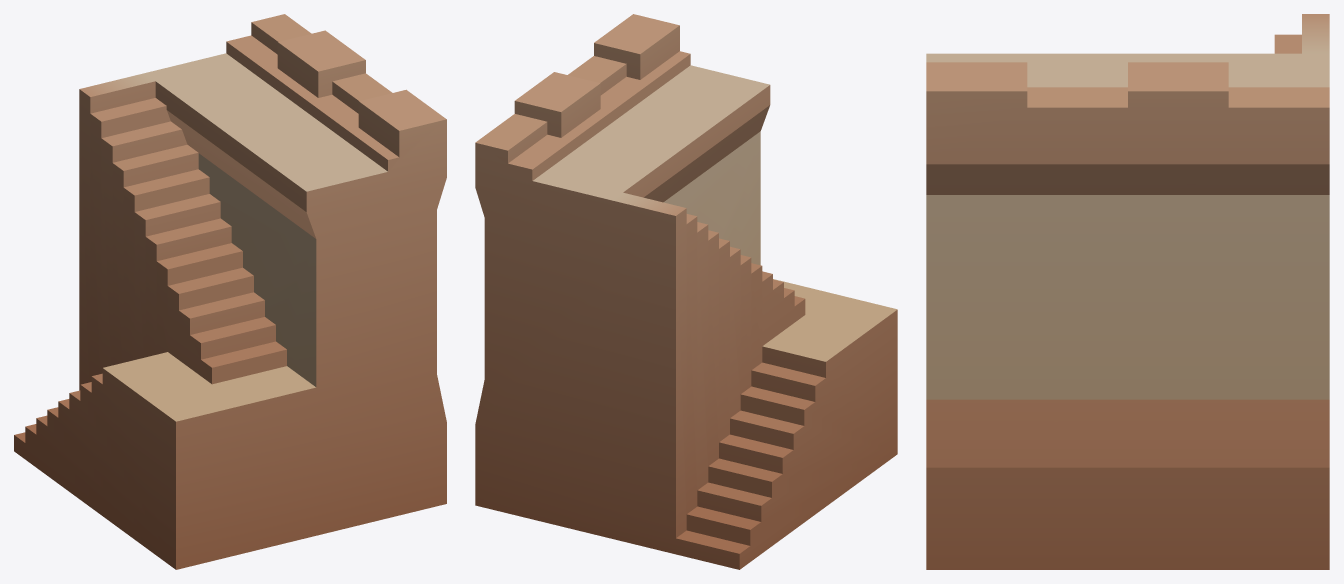
The model's file is wall-narrow-stairs.glb.
The picture shows the model from 3 angles, left to right: view 1: azimuth 30°, elevation 25°; view 2: azimuth 150°, elevation 25°; view 3: azimuth 270°, elevation 25°; orthographic projection. The views are drawn at different scales.
Parts seen in each view (by area): view 1: wall-narrow-stairs; view 2: wall-narrow-stairs; view 3: wall-narrow-stairs.
Boxes of the visible parts, x1,y1,x2,y2 form: wall-narrow-stairs: (14, 14, 446, 569); wall-narrow-stairs: (475, 14, 897, 569); wall-narrow-stairs: (926, 14, 1329, 569).
Size of the model in its own units: 0.965 by 1.31 by 1.
